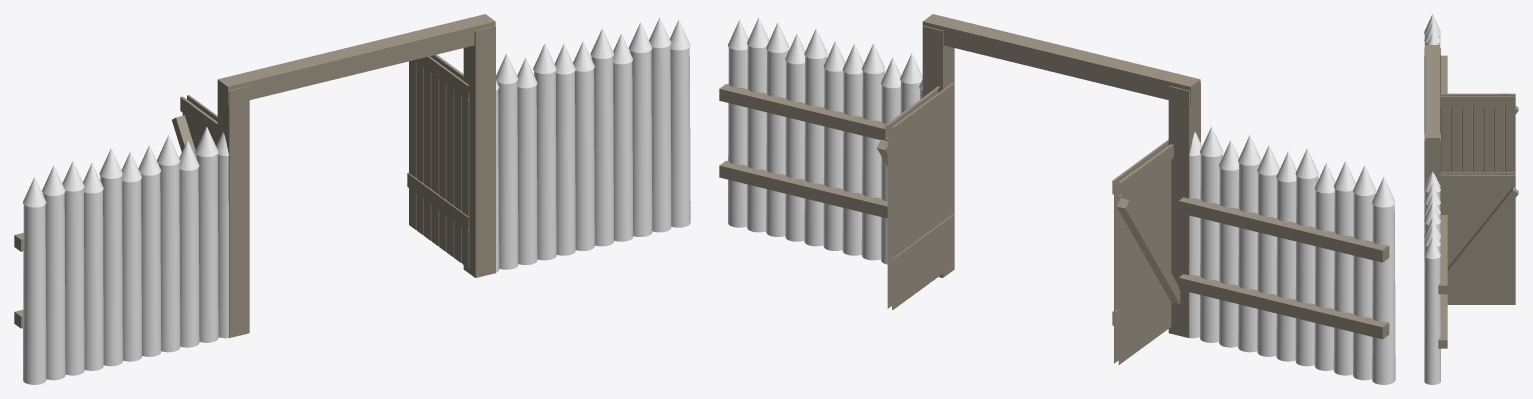
File: gullhaven_gate.glb
3 renders of one model, left to right at view 1: azimuth 30°, elevation 25°; view 2: azimuth 150°, elevation 25°; view 3: azimuth 270°, elevation 25°, orthographic. The views are drawn at different scales.
Visible parts, largest first — view 1: props/MI_Trim_Props, village/MI_WoodTrim, village/MI_WoodTrim_Wear; view 2: props/MI_Trim_Props, village/MI_WoodTrim, village/MI_WoodTrim_Wear; view 3: village/MI_WoodTrim_Wear, village/MI_WoodTrim, props/MI_Trim_Props.
Boxes of the visible parts, left/top/right/bottom form: props/MI_Trim_Props: left=23, top=17, right=690, bottom=384; village/MI_WoodTrim: left=14, top=14, right=495, bottom=337; village/MI_WoodTrim_Wear: left=182, top=60, right=469, bottom=268; props/MI_Trim_Props: left=728, top=17, right=1395, bottom=384; village/MI_WoodTrim: left=719, top=14, right=1389, bottom=339; village/MI_WoodTrim_Wear: left=887, top=98, right=1171, bottom=364; village/MI_WoodTrim_Wear: left=1440, top=106, right=1515, bottom=304; village/MI_WoodTrim: left=1424, top=45, right=1518, bottom=348; props/MI_Trim_Props: left=1424, top=14, right=1440, bottom=384.
Bounding box in the file's own units: 10.42 × 3.76 × 1.81.
